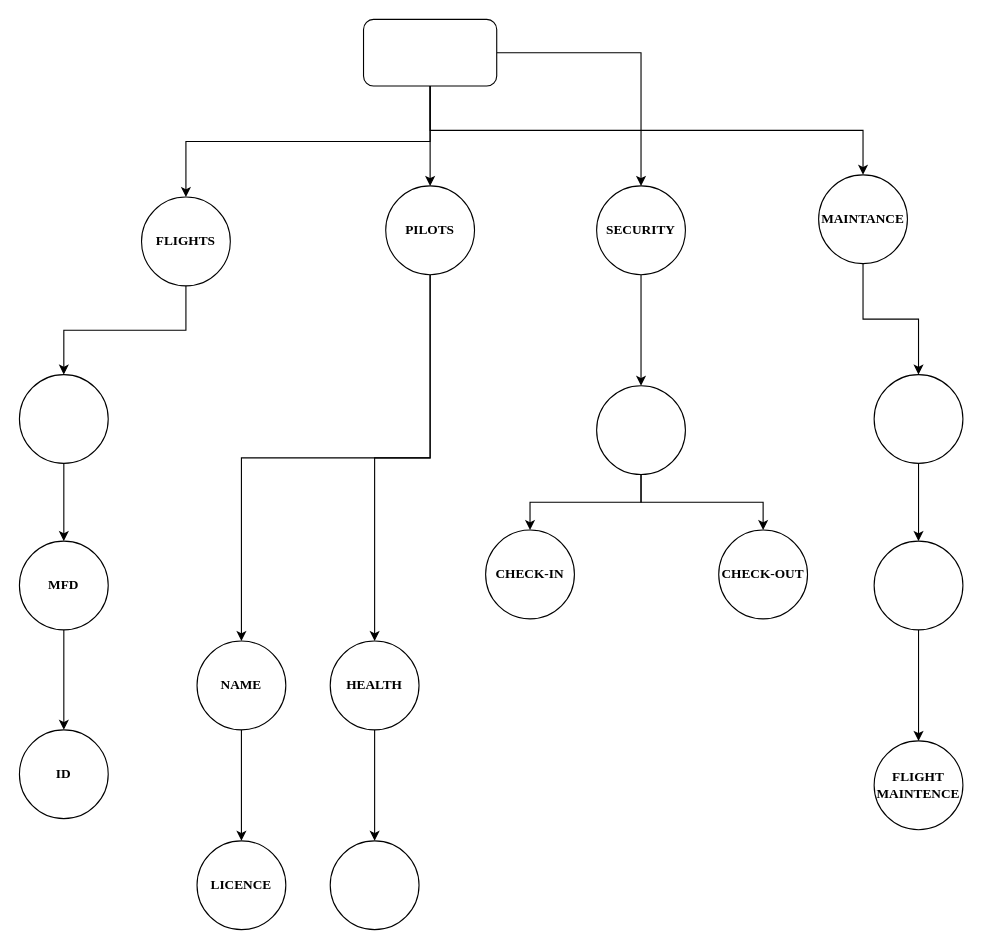
Image size: 982x949. Some labels were removed from this diagram. The shapes that lost their labels are listed below. From the top down, each one's centre as x and y in pixels, then its label:
At point 429,52: "AIRPORT".
At point 63,418: "MODEL".
At point 640,430: "PASSPORT".
At point 918,418: "TYPE OF MANTENCE".
At point 918,585: "AIRPORT SECURTY".
At point 374,885: "YEAR OF SERVICE".
